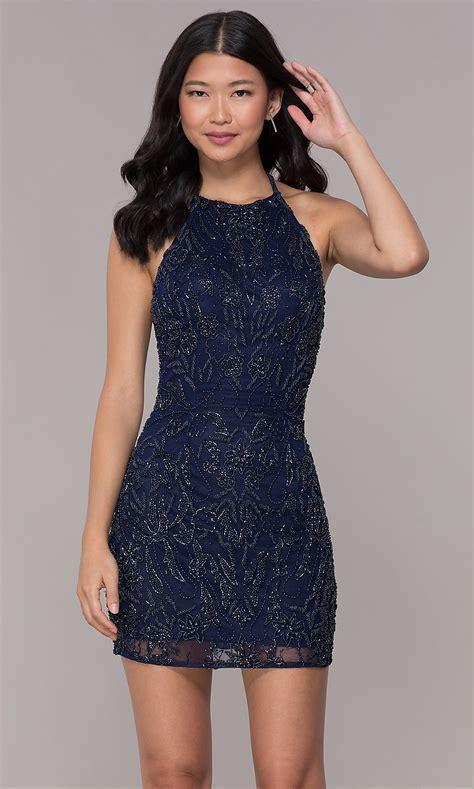dress: (110, 173, 338, 670)
